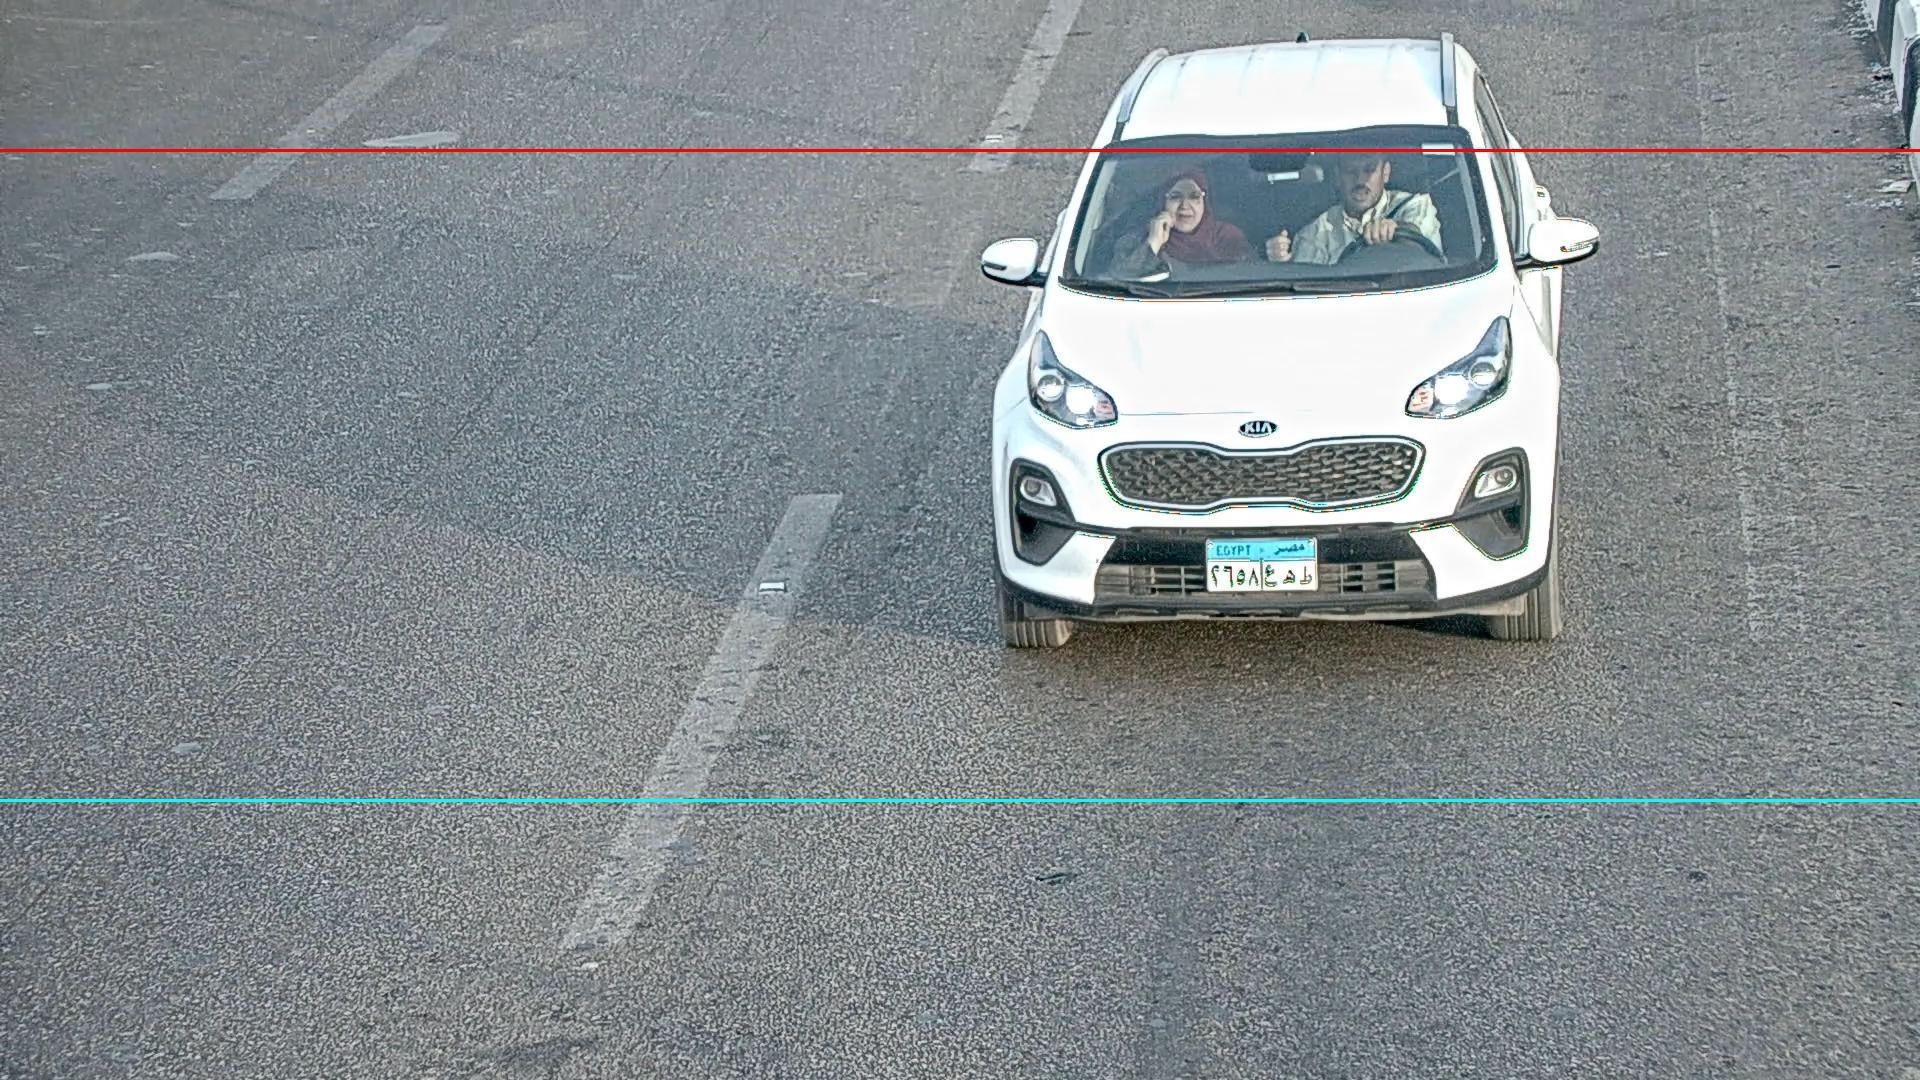windshield: (1044, 120, 1510, 299)
